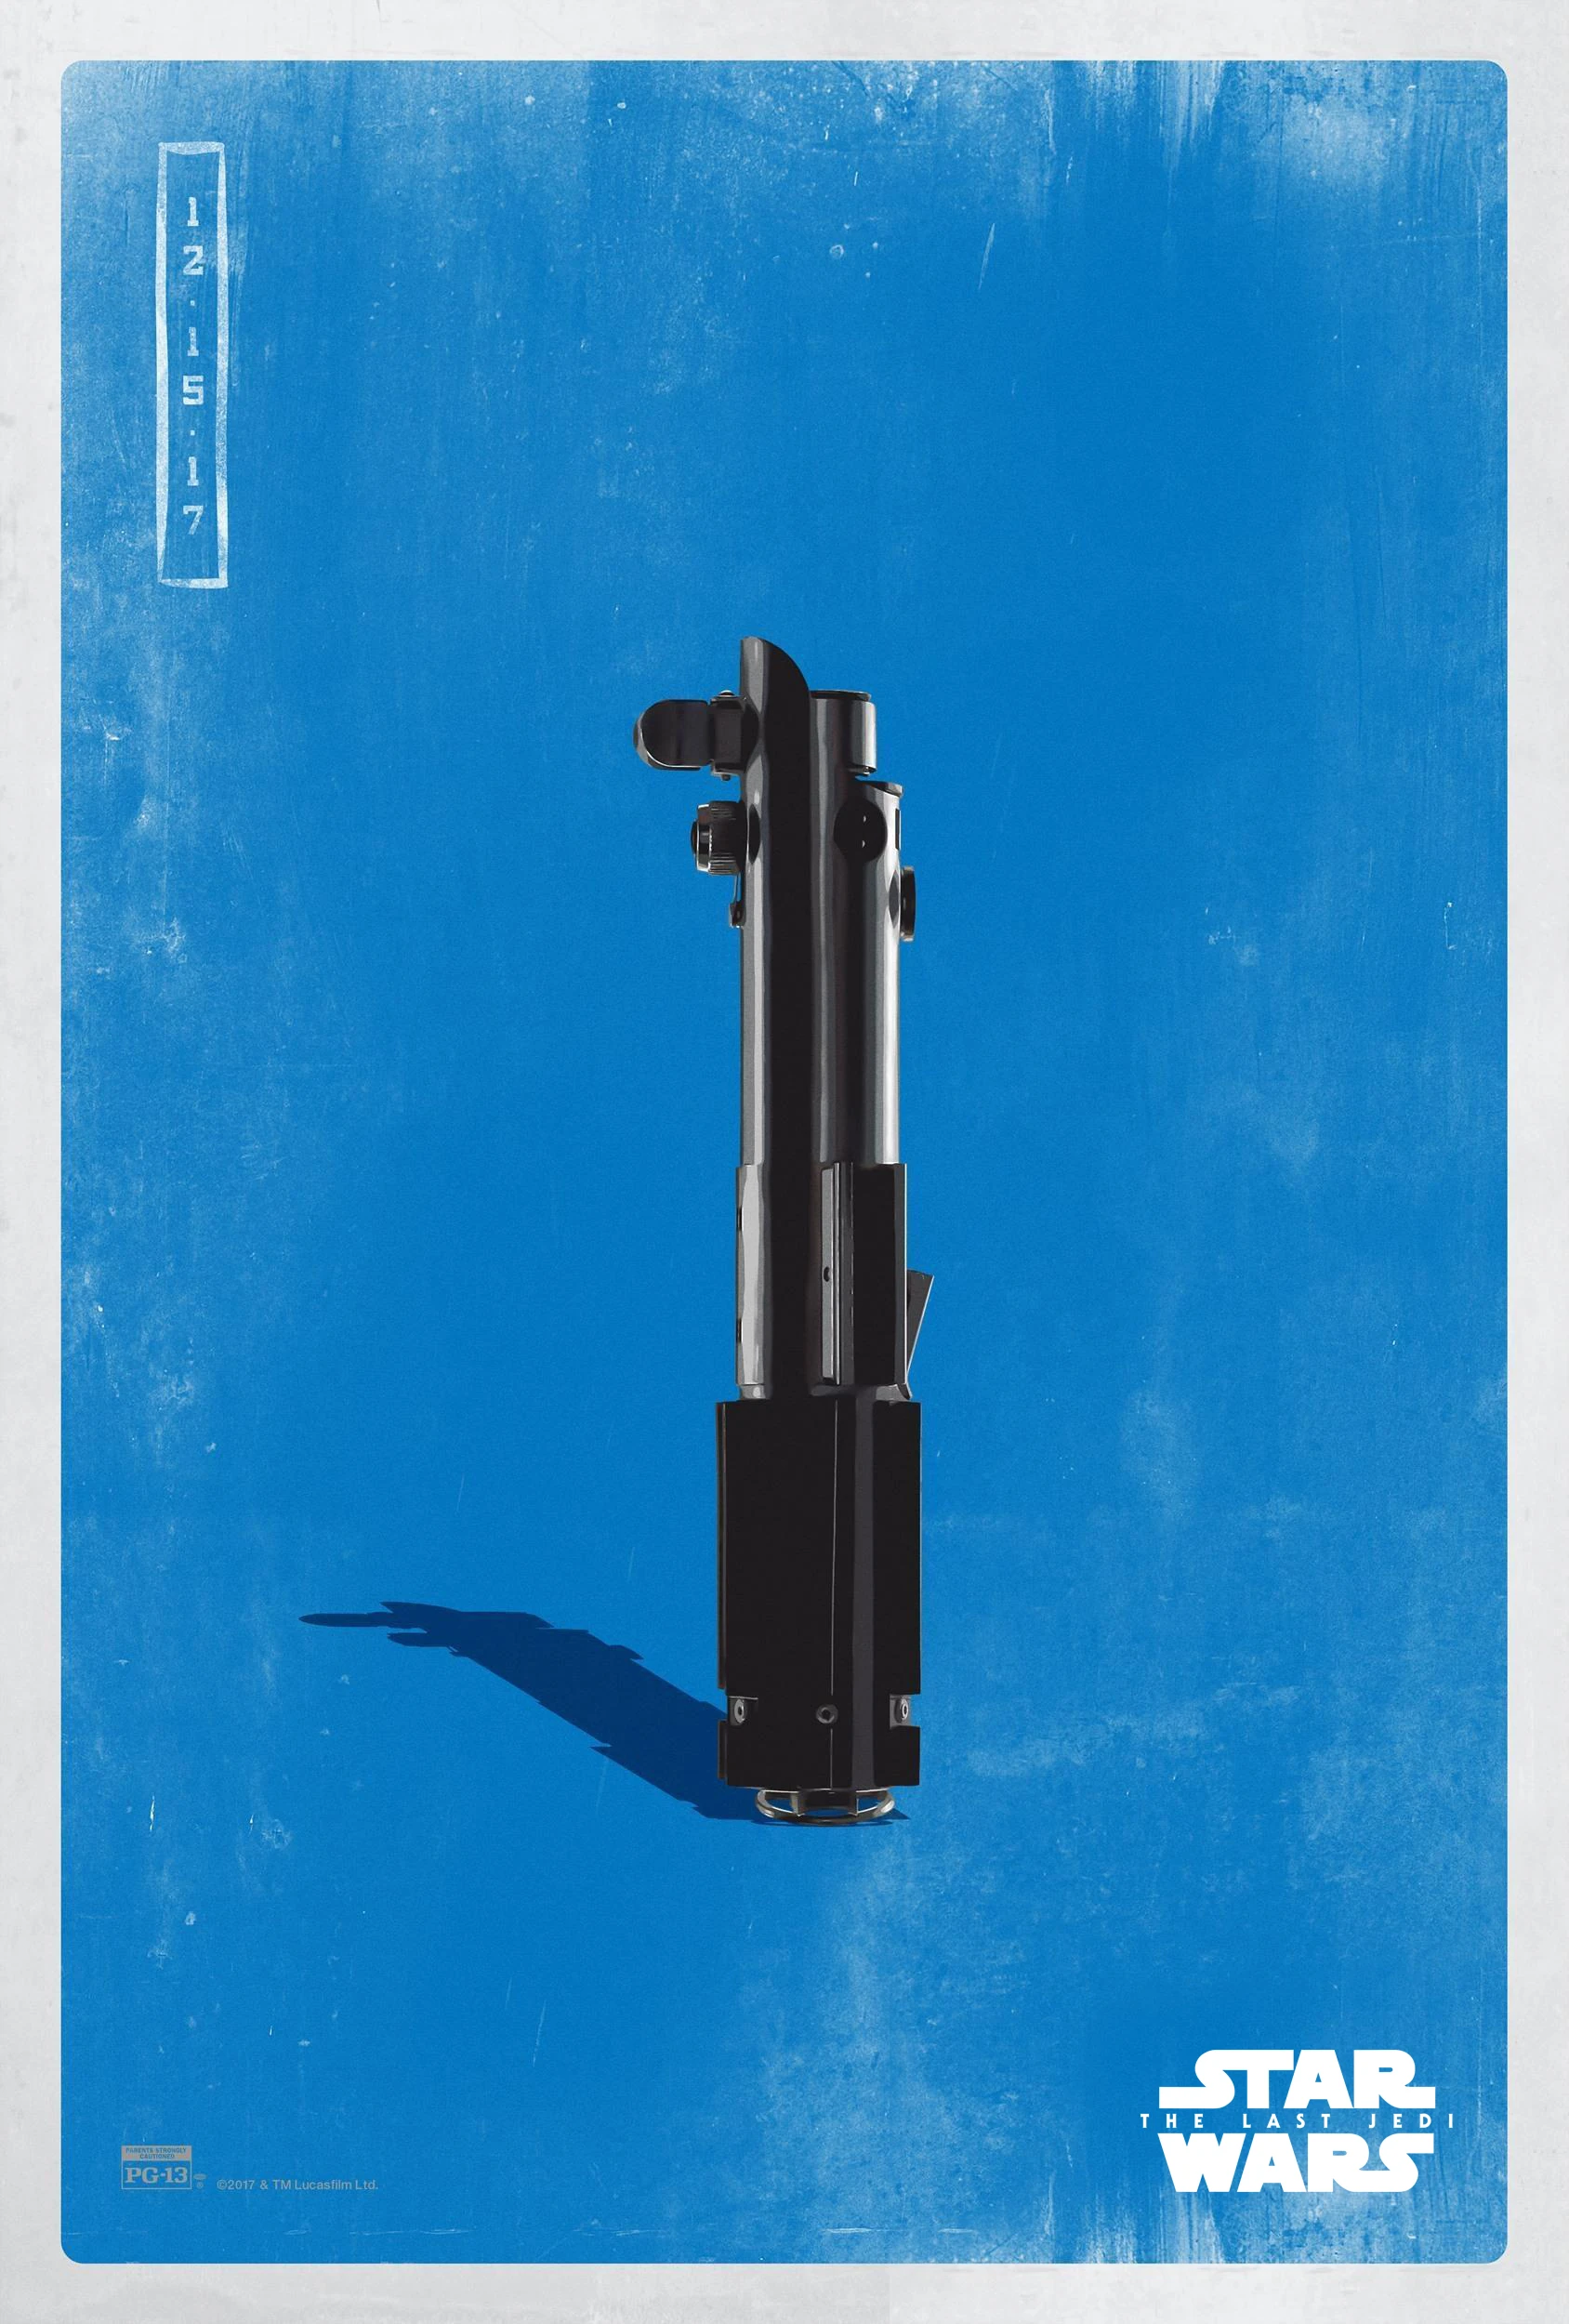Dalek: (615, 602, 960, 1856)
